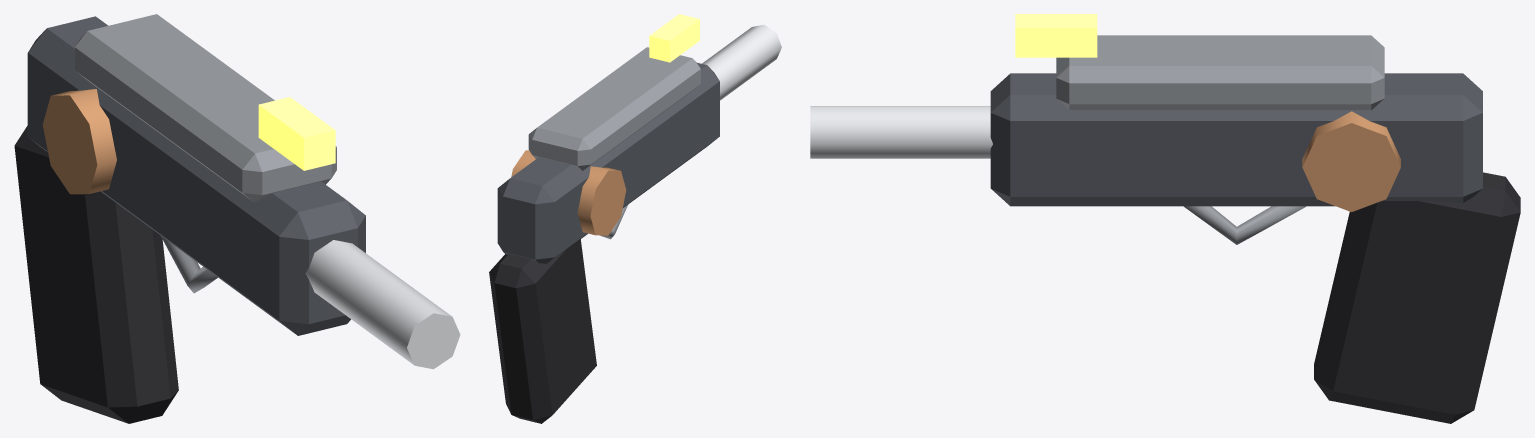
File: weapon_handgun.glb
The picture shows the model from 3 angles, left to right: view 1: azimuth 30°, elevation 25°; view 2: azimuth 150°, elevation 25°; view 3: azimuth 270°, elevation 25°; orthographic projection. The views are drawn at different scales.
Parts seen in each view (by area): view 1: handgun; view 2: handgun; view 3: handgun.
Part boxes in pixels (box(x1,y1,x2,y2)): handgun: box(14, 14, 460, 423); handgun: box(489, 14, 781, 423); handgun: box(810, 14, 1520, 423).
Bounding box in the file's own units: 0.08 × 0.2662 × 0.433.
